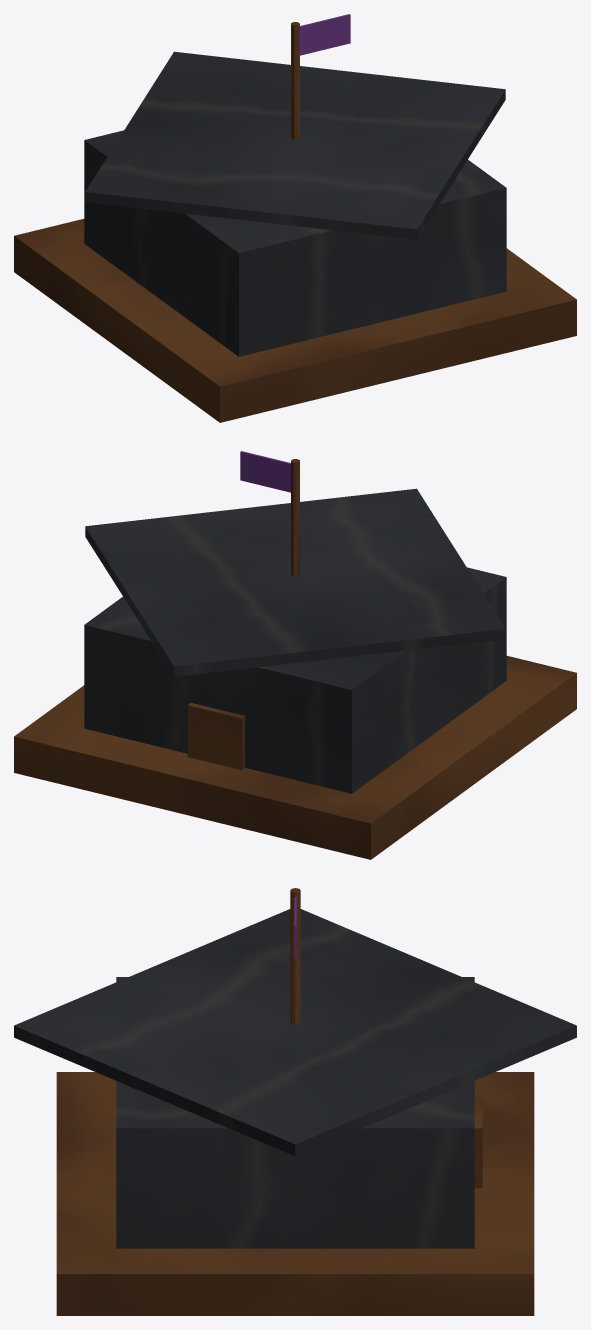
Rendered from building_outpost.001.fbx.
3 views of the same model, one above another, from view 1: azimuth 30°, elevation 25°; view 2: azimuth 150°, elevation 25°; view 3: azimuth 270°, elevation 25° (orthographic). The views are drawn at different scales.
Visible parts, largest first — view 1: building_outpost.001; view 2: building_outpost.001; view 3: building_outpost.001.
Part boxes in pixels (bbox=[...]): building_outpost.001: bbox=[14, 14, 576, 422]; building_outpost.001: bbox=[14, 451, 576, 859]; building_outpost.001: bbox=[14, 888, 576, 1315].
Bounding box in the file's own units: 8.49 × 5.4 × 8.49.
